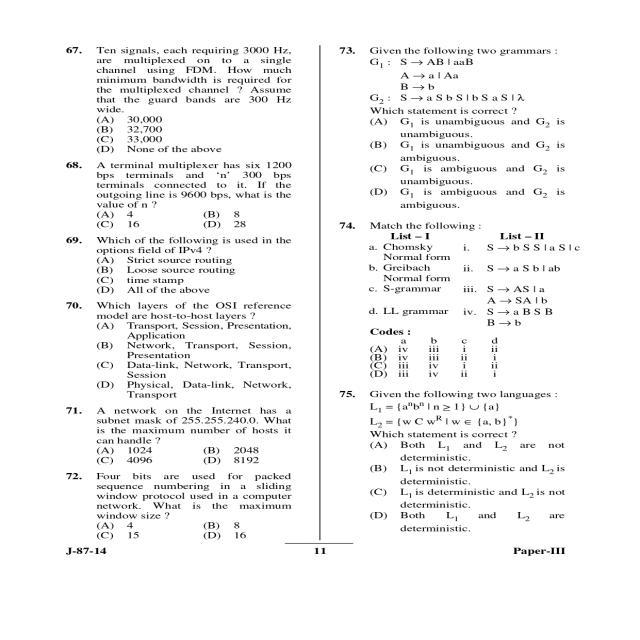Answer_Block: (334, 438, 586, 538), (334, 115, 586, 214), (58, 322, 312, 400), (333, 327, 587, 379), (59, 114, 314, 156), (59, 256, 312, 294), (58, 446, 313, 466), (59, 210, 313, 230), (56, 521, 313, 540)
Question_Answer_Block: (333, 44, 588, 212), (334, 219, 586, 379), (332, 386, 588, 538), (60, 45, 314, 156), (58, 299, 313, 401), (59, 158, 312, 230), (58, 471, 314, 540), (58, 406, 313, 466), (59, 236, 313, 294)
Question_Block: (334, 218, 586, 328), (334, 43, 586, 115), (59, 44, 314, 114), (333, 386, 587, 439), (58, 159, 314, 209), (58, 471, 313, 520), (59, 407, 312, 445), (58, 298, 313, 322), (59, 235, 312, 255)
Question_Paper_Area: (59, 44, 314, 540), (334, 43, 588, 538)
